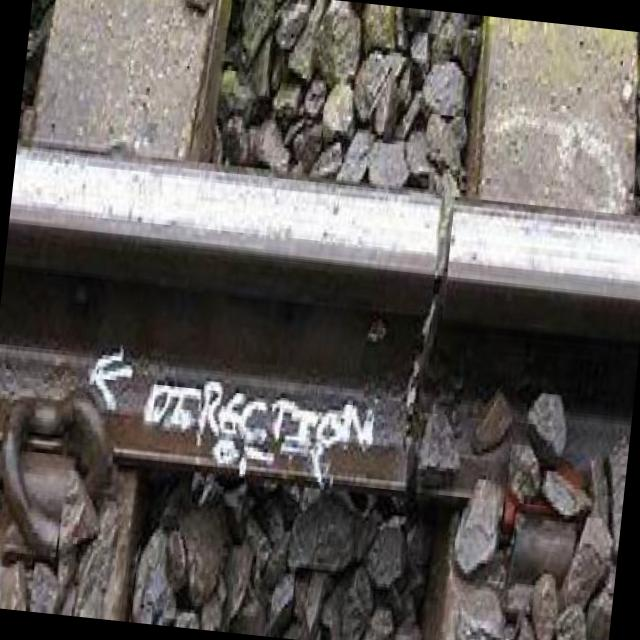defective: (194, 54, 620, 640)
